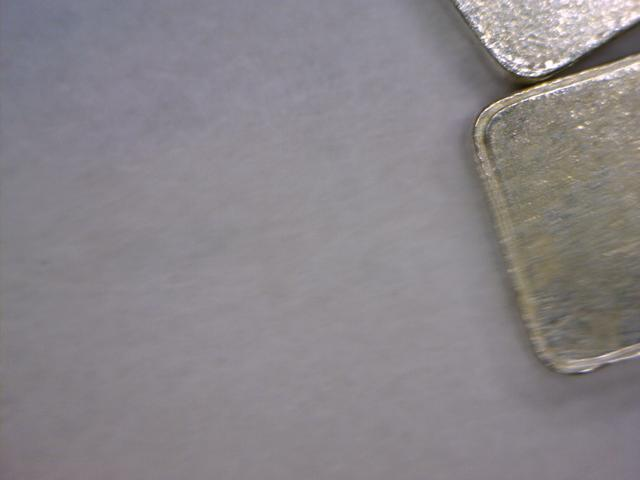nok: (470, 50, 640, 407)
